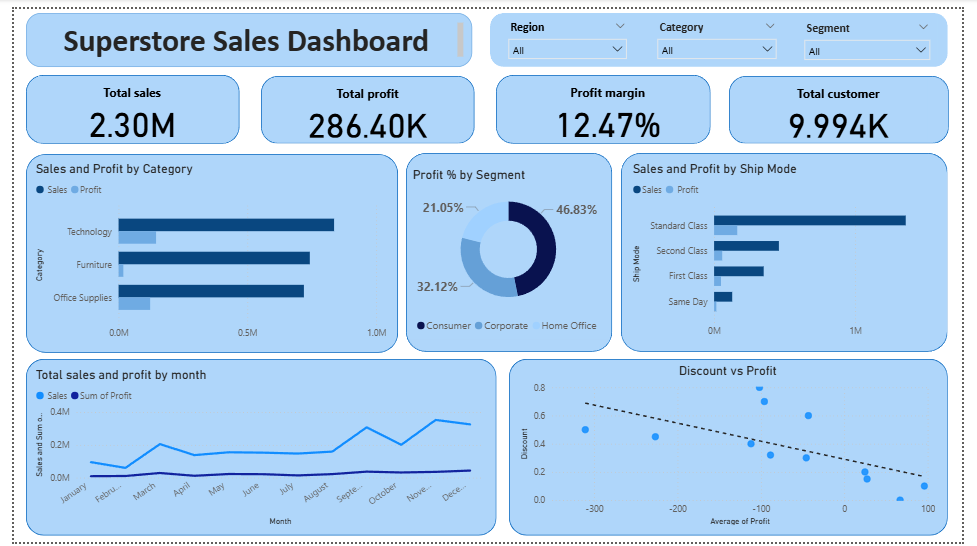

Layout of this report page (visuals, bound fields, positions):
{"tool":"powerbi","page":{"name":"superstore_sales_DB","canvas":[1280,720],"ordinal":0},"visuals":[{"type":"shape","box":[15.7,88.6,288.6,92.9],"z":0},{"type":"shape","box":[642.9,5.7,618.6,72.9],"z":1000},{"type":"shape","box":[15.7,195.7,502.9,268.6],"z":2000},{"type":"shape","box":[820,194.3,441.4,268.6],"z":3000},{"type":"shape","box":[954.5,213.8,177.9,63.4],"z":4000},{"type":"textbox","box":[15.7,5.7,602.9,72.9],"z":4500},{"type":"shape","box":[15.7,472.9,635.7,238.6],"z":5000},{"type":"shape","box":[965.7,90,297.1,91.4],"z":6000},{"type":"shape","box":[651.4,88.6,290,92.9],"z":6500},{"type":"shape","box":[668.6,472.9,592.9,238.6],"z":7000},{"type":"shape","box":[334.3,90,288.6,91.4],"z":7500},{"type":"shape","box":[530,194.3,278.6,268.6],"z":8000},{"type":"cardVisual","fields":{"Data":["Sum(superstore_dataset_ref.Sales)"]},"box":[32.9,90,254.3,90],"z":10000},{"type":"cardVisual","fields":{"Data":["Sum(superstore_dataset_ref.Profit)"]},"box":[361.4,91.4,234.3,87.1],"z":11000},{"type":"cardVisual","fields":{"Data":["superstore_dataset_ref.profit_margin"]},"box":[681.4,90,242.9,90],"z":12000},{"type":"cardVisual","fields":{"Data":["CountNonNull(superstore_dataset_ref.Customer ID)"]},"box":[992.9,91.4,241.4,87.1],"z":13000},{"type":"lineChart","title":"Total sales and profit by month","fields":{"Y":["Sum(superstore_dataset_ref.Sales)","Sum(superstore_dataset_ref.Profit)"],"Category":["superstore_dataset_ref.clean_order_date.Variation.Date Hierarchy.Month"]},"box":[24.3,484.3,615.7,218.6],"z":14000},{"type":"clusteredBarChart","fields":{"Category":["superstore_dataset_ref.Category"],"Y":["Sum(superstore_dataset_ref.Sales)","Sum(superstore_dataset_ref.Profit)"]},"box":[24.3,205.7,484.3,250],"z":15000},{"type":"donutChart","fields":{"Y":["Sum(superstore_dataset_ref.Profit)"],"Category":["superstore_dataset_ref.Segment"]},"box":[534.3,212.9,268.6,232.9],"z":16000},{"type":"slicer","fields":{"Values":["superstore_dataset_ref.Region"]},"box":[658.6,10,180,60],"z":17000},{"type":"slicer","fields":{"Values":["superstore_dataset_ref.Category"]},"box":[860,10,181.4,60],"z":18000},{"type":"clusteredBarChart","fields":{"Category":["superstore_dataset_ref.Ship Mode"],"Y":["Sum(superstore_dataset_ref.Sales)","Sum(superstore_dataset_ref.Profit)"]},"box":[831.4,205.7,420,247.1],"z":19000},{"type":"slicer","fields":{"Values":["superstore_dataset_ref.Segment"]},"box":[1058.6,11.4,190,58.6],"z":20000},{"type":"scatterChart","title":"Discount vs Profit","fields":{"Y":["superstore_dataset_ref.Discount"],"X":["Avg(superstore_dataset_ref.Profit)"]},"box":[680,478.6,570,224.3],"z":21000}]}

Visuals, with their boxes in screenshot pixels (x1, y1, x2, y2), scaled from the page's 1280x720 canvas onto the 977x546 screenshot:
shape: left=12, top=67, right=232, bottom=138
shape: left=491, top=4, right=963, bottom=60
shape: left=12, top=148, right=396, bottom=352
shape: left=626, top=147, right=963, bottom=351
shape: left=729, top=162, right=864, bottom=210
textbox: left=12, top=4, right=472, bottom=60
shape: left=12, top=359, right=497, bottom=540
shape: left=737, top=68, right=964, bottom=138
shape: left=497, top=67, right=719, bottom=138
shape: left=510, top=359, right=963, bottom=540
shape: left=255, top=68, right=475, bottom=138
shape: left=405, top=147, right=617, bottom=351
cardVisual - Sum(superstore_dataset_ref.Sales): left=25, top=68, right=219, bottom=136
cardVisual - Sum(superstore_dataset_ref.Profit): left=276, top=69, right=455, bottom=135
cardVisual - superstore_dataset_ref.profit_margin: left=520, top=68, right=706, bottom=136
cardVisual - CountNonNull(superstore_dataset_ref.Customer ID): left=758, top=69, right=942, bottom=135
"Total sales and profit by month" lineChart: left=19, top=367, right=488, bottom=533
clusteredBarChart - superstore_dataset_ref.Category x Sum(superstore_dataset_ref.Sales): left=19, top=156, right=388, bottom=346
donutChart - Sum(superstore_dataset_ref.Profit) x superstore_dataset_ref.Segment: left=408, top=161, right=613, bottom=338
slicer - superstore_dataset_ref.Region: left=503, top=8, right=640, bottom=53
slicer - superstore_dataset_ref.Category: left=656, top=8, right=795, bottom=53
clusteredBarChart - superstore_dataset_ref.Ship Mode x Sum(superstore_dataset_ref.Sales): left=635, top=156, right=955, bottom=343
slicer - superstore_dataset_ref.Segment: left=808, top=9, right=953, bottom=53
"Discount vs Profit" scatterChart: left=519, top=363, right=954, bottom=533
